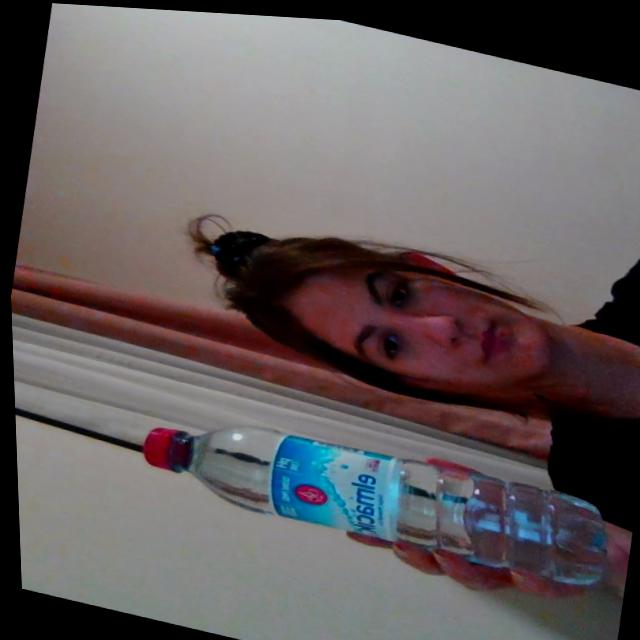anorganik: (115, 387, 617, 596)
